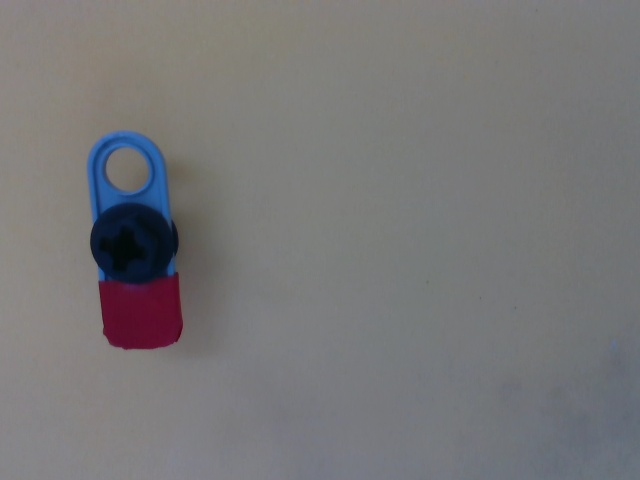part_1_good: (82, 128, 188, 353)
